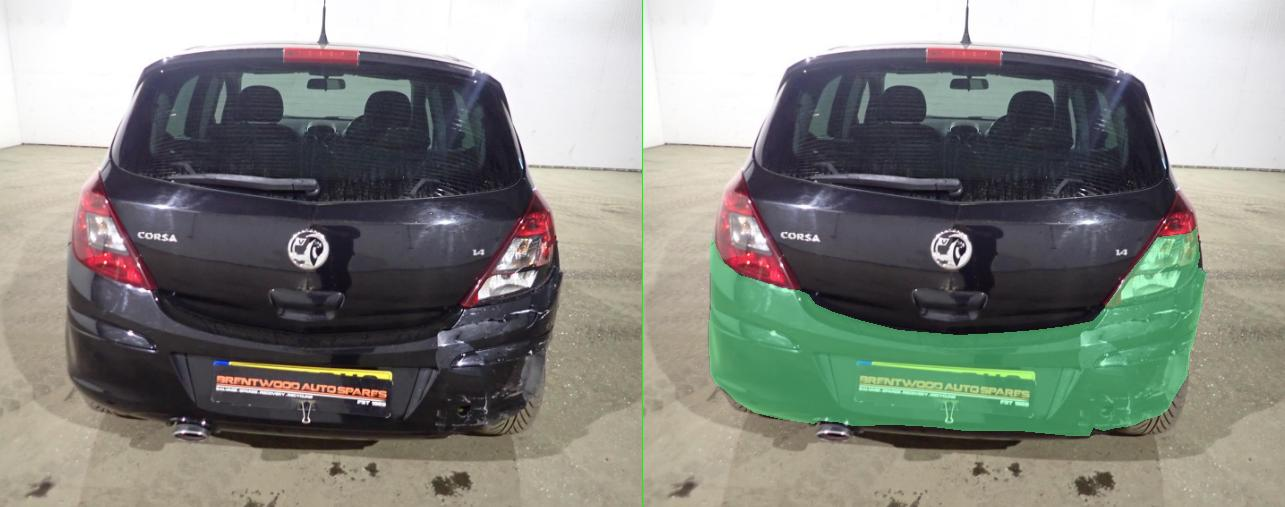Broken part: (132, 236, 1127, 435), (925, 226, 1113, 307)
